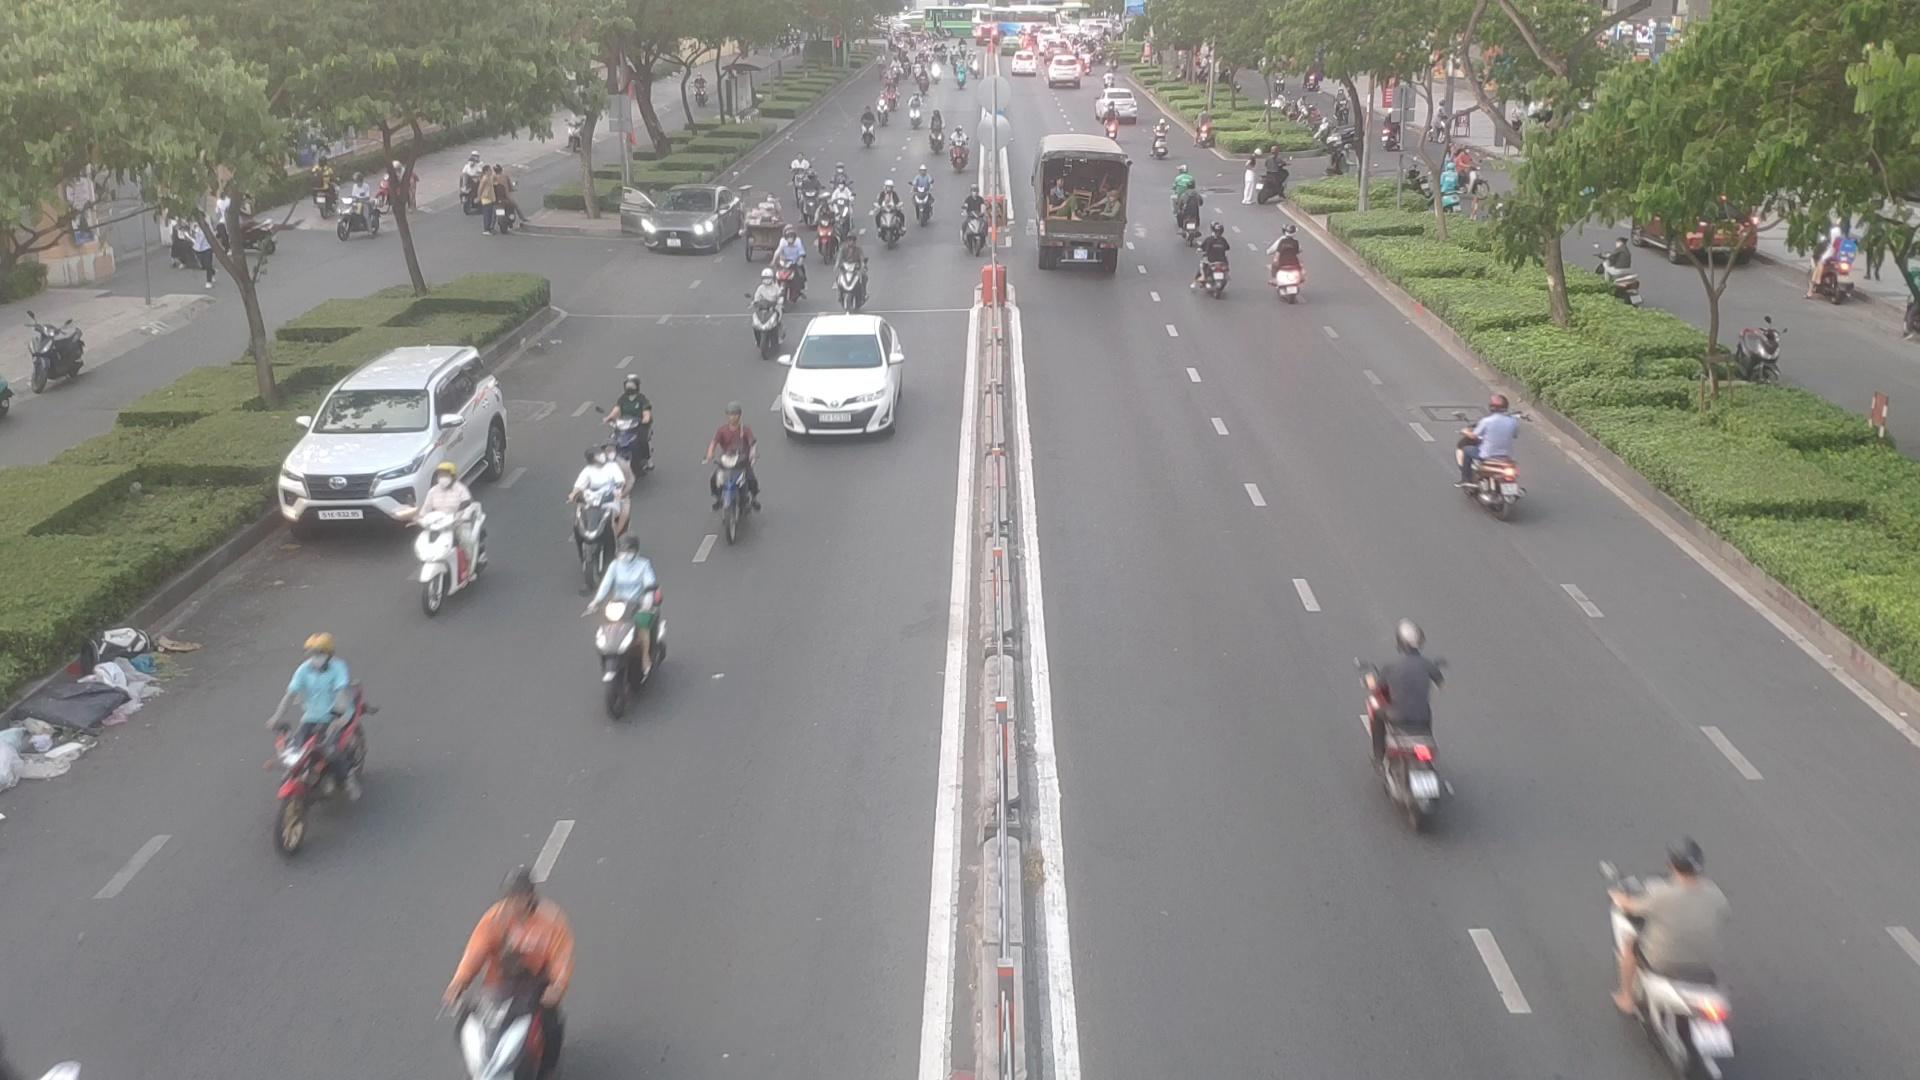car: (284, 343, 520, 529), (775, 316, 909, 436), (616, 193, 746, 260)
motorbike: (1604, 825, 1764, 1077), (438, 872, 574, 1077), (249, 637, 363, 847), (1367, 647, 1473, 816), (584, 542, 679, 707), (401, 473, 496, 612), (1451, 394, 1535, 516), (692, 414, 767, 542), (572, 448, 641, 549), (603, 378, 662, 468), (833, 239, 876, 313), (1266, 232, 1311, 301), (745, 281, 789, 349), (957, 189, 1002, 255), (1195, 232, 1241, 295), (868, 195, 905, 252), (814, 208, 848, 262), (910, 169, 943, 222), (856, 113, 880, 150)
